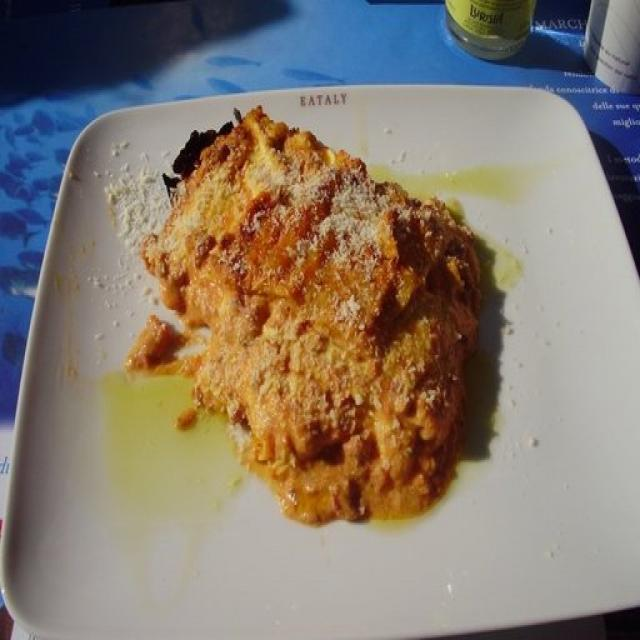Lasagna: (154, 112, 509, 518)
